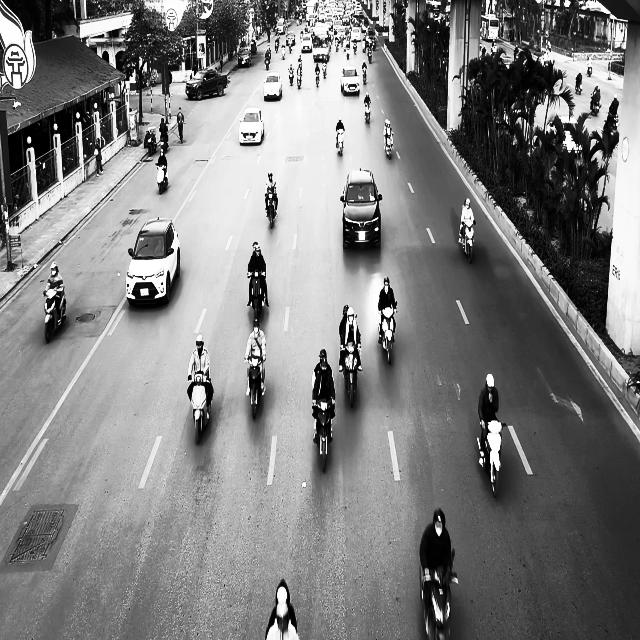bus: (482, 13, 499, 40)
car: (126, 216, 180, 306), (340, 168, 382, 250), (185, 68, 228, 100), (239, 106, 264, 144), (340, 66, 360, 96), (263, 72, 282, 100), (238, 47, 252, 67), (301, 34, 312, 52)
motorbike: (419, 549, 458, 639), (477, 420, 502, 497), (187, 370, 213, 444), (312, 398, 335, 472), (339, 342, 362, 408), (244, 356, 266, 419), (43, 285, 66, 343), (378, 302, 397, 364), (247, 269, 268, 321), (458, 219, 476, 263), (264, 192, 278, 228), (156, 164, 168, 194), (384, 131, 394, 159), (146, 128, 156, 155), (590, 92, 601, 115), (335, 130, 344, 156), (364, 100, 371, 123), (296, 66, 302, 88), (288, 64, 294, 84), (314, 69, 320, 87), (264, 54, 270, 69), (362, 66, 367, 84), (322, 62, 327, 78), (368, 46, 372, 63)
